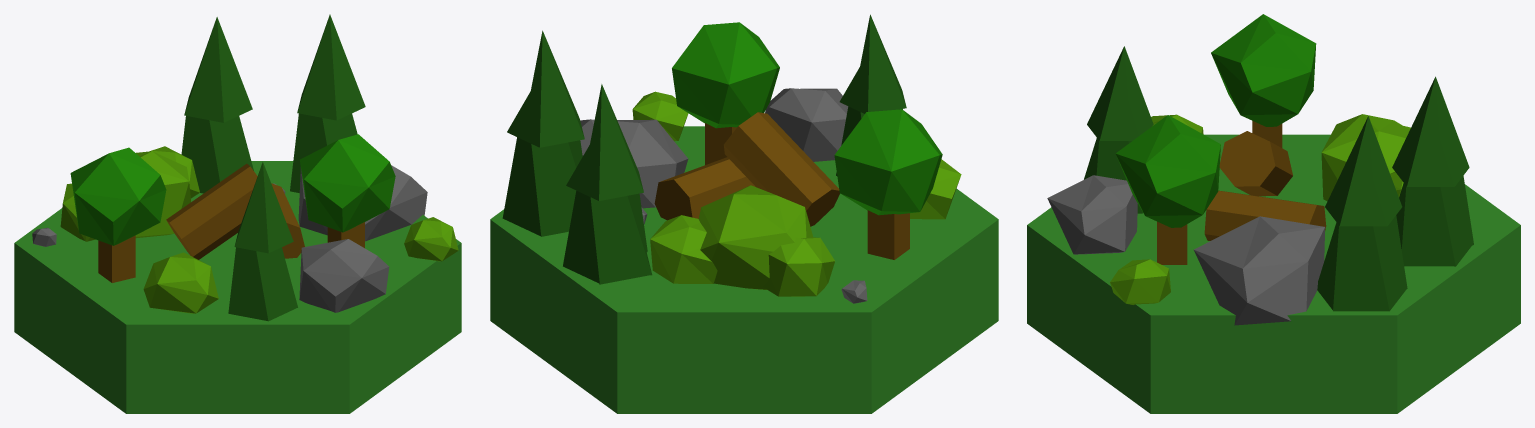
The model's file is Wood2final.fbx.
3 views of the same model, side by side, from view 1: azimuth 30°, elevation 25°; view 2: azimuth 150°, elevation 25°; view 3: azimuth 270°, elevation 25° (orthographic). The views are drawn at different scales.
Visible parts, largest first — view 1: Cylinder; view 2: Cylinder; view 3: Cylinder.
Part boxes in pixels (left/top/right/bottom): Cylinder: left=14, top=14, right=461, bottom=413; Cylinder: left=490, top=14, right=998, bottom=413; Cylinder: left=1027, top=14, right=1520, bottom=413.
Bounding box in the file's own units: 1.78 × 1.25 × 2.
